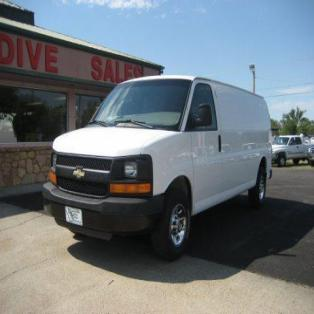Auto: (42, 72, 274, 265)
